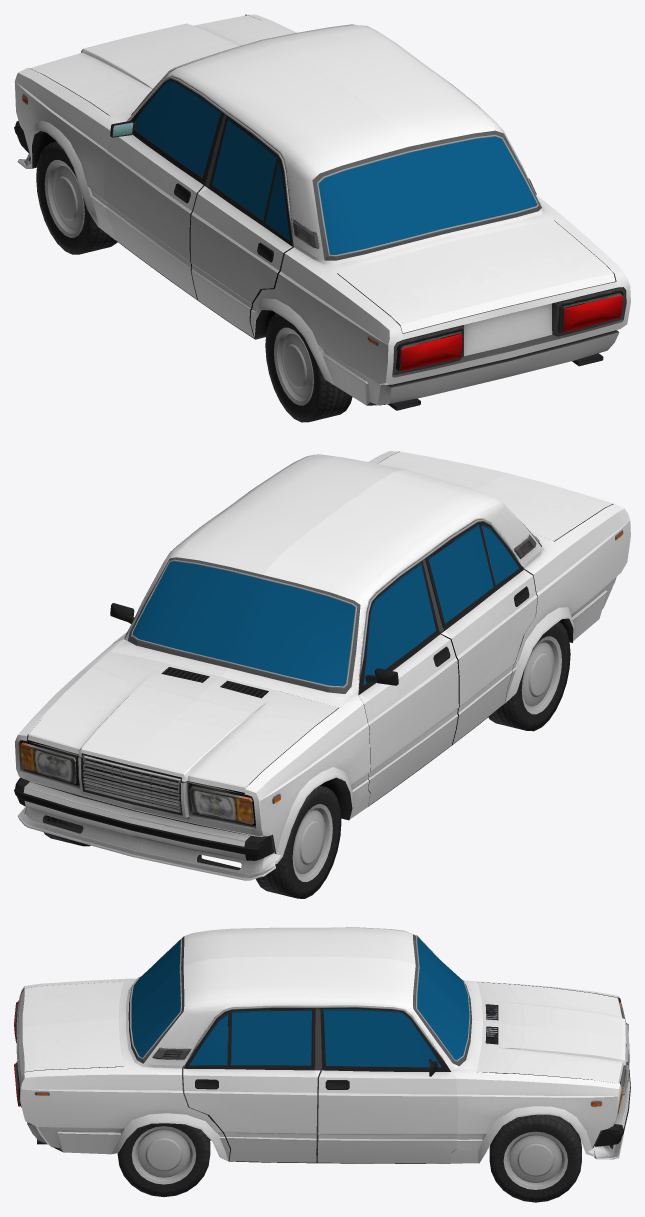
Rendered from Car1.fbx.
3 views of the same model, one above another, from view 1: azimuth 30°, elevation 25°; view 2: azimuth 150°, elevation 25°; view 3: azimuth 270°, elevation 25° (orthographic). The views are drawn at different scales.
Parts seen in each view (by area): view 1: Body, Roof, Trunk, _Glass_Back, Door__1_, Classic_1_Door_RB_1, Hood, BumperB, Classic_1_Glass_RF_1, Classic_1_Glass_RC_1, Tire_2, Tire_3 (+5 smaller); view 2: Body, Roof, Hood, _Glass_Front, BumperF, Door__1_, Classic_1_Door_RB_1, Trunk, Classic_1_Glass_RF_1, Classic_1_Glass_RC_1, Tire_3, Tire_2 (+5 smaller); view 3: Body, Roof, Door, Hood, Classic_1_Door_RB, Trunk, Classic_1_Glass_RF, Classic_1_Glass_RC, _Glass_Front, Tire_1, _Glass_Back, Metal_1 (+4 smaller).
Boxes of the visible parts, bbox=[...] form: Body: bbox=[14, 14, 630, 405]; Roof: bbox=[128, 24, 541, 260]; Trunk: bbox=[337, 220, 615, 332]; _Glass_Back: bbox=[318, 136, 537, 254]; Door__1_: bbox=[104, 78, 224, 299]; Classic_1_Door_RB_1: bbox=[190, 115, 293, 338]; Hood: bbox=[29, 15, 292, 116]; BumperB: bbox=[383, 330, 619, 410]; Classic_1_Glass_RF_1: bbox=[134, 80, 221, 177]; Classic_1_Glass_RC_1: bbox=[212, 118, 277, 220]; Tire_2: bbox=[265, 313, 352, 422]; Tire_3: bbox=[36, 141, 117, 254]; Body: bbox=[15, 451, 630, 863]; Roof: bbox=[127, 454, 541, 689]; Hood: bbox=[28, 651, 338, 792]; _Glass_Front: bbox=[132, 561, 355, 686]; BumperF: bbox=[14, 777, 275, 880]; Door__1_: bbox=[358, 561, 458, 805]; Classic_1_Door_RB_1: bbox=[425, 521, 537, 744]; Trunk: bbox=[378, 451, 613, 541]; Classic_1_Glass_RF_1: bbox=[363, 563, 435, 685]; Classic_1_Glass_RC_1: bbox=[428, 524, 493, 623]; Tire_3: bbox=[256, 785, 341, 898]; Tire_2: bbox=[488, 621, 570, 731]; Body: bbox=[14, 976, 629, 1163]; Roof: bbox=[142, 927, 457, 1067]; Door: bbox=[317, 1007, 458, 1163]; Hood: bbox=[477, 982, 626, 1083]; Classic_1_Door_RB: bbox=[183, 1008, 320, 1162]; Trunk: bbox=[18, 981, 123, 1076]; Classic_1_Glass_RF: bbox=[322, 1009, 441, 1067]; Classic_1_Glass_RC: bbox=[231, 1009, 311, 1065]; _Glass_Front: bbox=[417, 937, 469, 1060]; Tire_1: bbox=[489, 1114, 581, 1202]; _Glass_Back: bbox=[131, 940, 181, 1057]; Metal_1: bbox=[503, 1131, 567, 1189].
Bounding box in the file's own units: 305 × 250 × 707.
